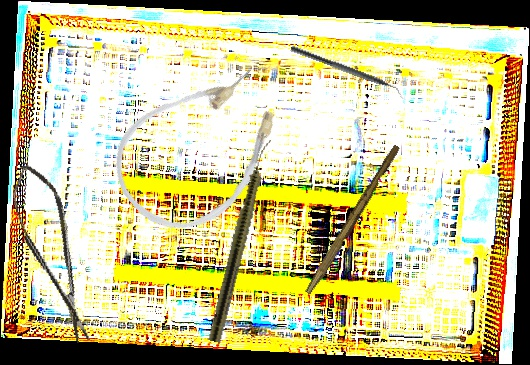Cannula: (92, 43, 311, 255)
Chopper: (287, 45, 408, 101)
Handpiece: (206, 137, 275, 344)
Micro Scissor: (4, 158, 101, 350)
Scalpel Handle: (304, 142, 402, 298)
